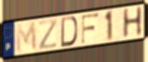1: (104, 9, 116, 43)
D: (60, 15, 79, 48)
F: (81, 12, 100, 45)
H: (121, 5, 144, 41)
M: (15, 21, 38, 54)
Z: (38, 18, 58, 51)
